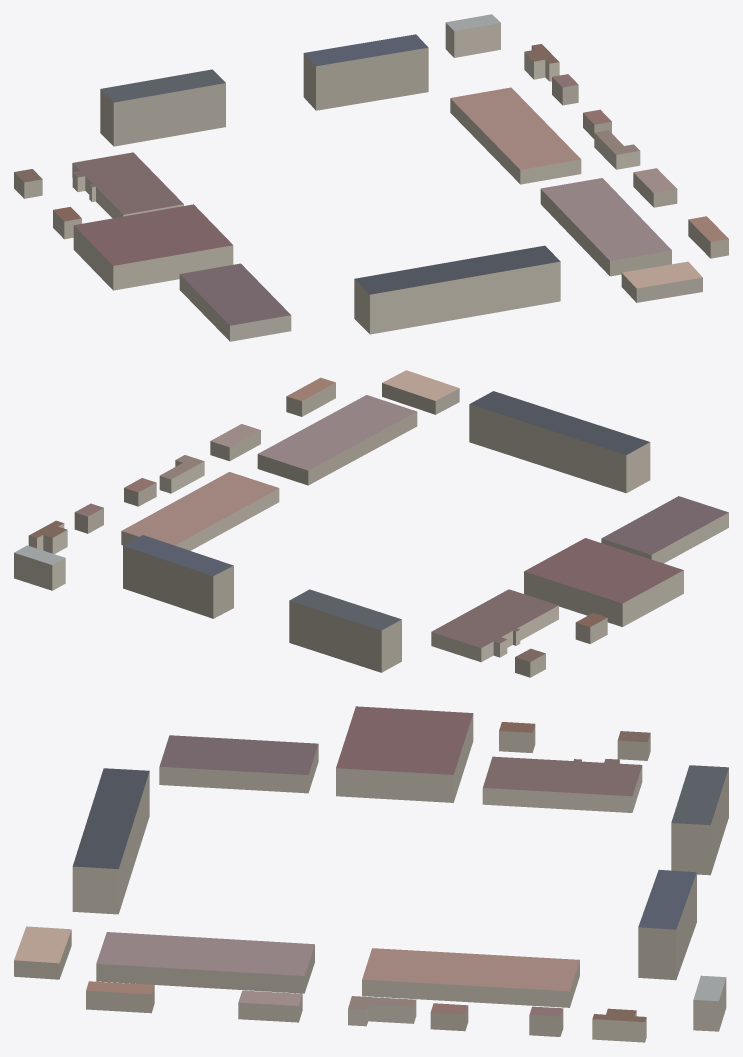
3 renders of one model, top to bottom at view 1: azimuth 30°, elevation 25°; view 2: azimuth 150°, elevation 25°; view 3: azimuth 270°, elevation 25°, orthographic. The views are drawn at different scales.
Parts seen in each view (by area): view 1: tuile; view 2: tuile; view 3: tuile.
Part boxes in pixels (x1,y1,x2,y2): tuile: (14,14,728,341); tuile: (14,370,728,677); tuile: (14,706,728,1042).
Bounding box in the file's own units: 256 × 19.94 × 251.
